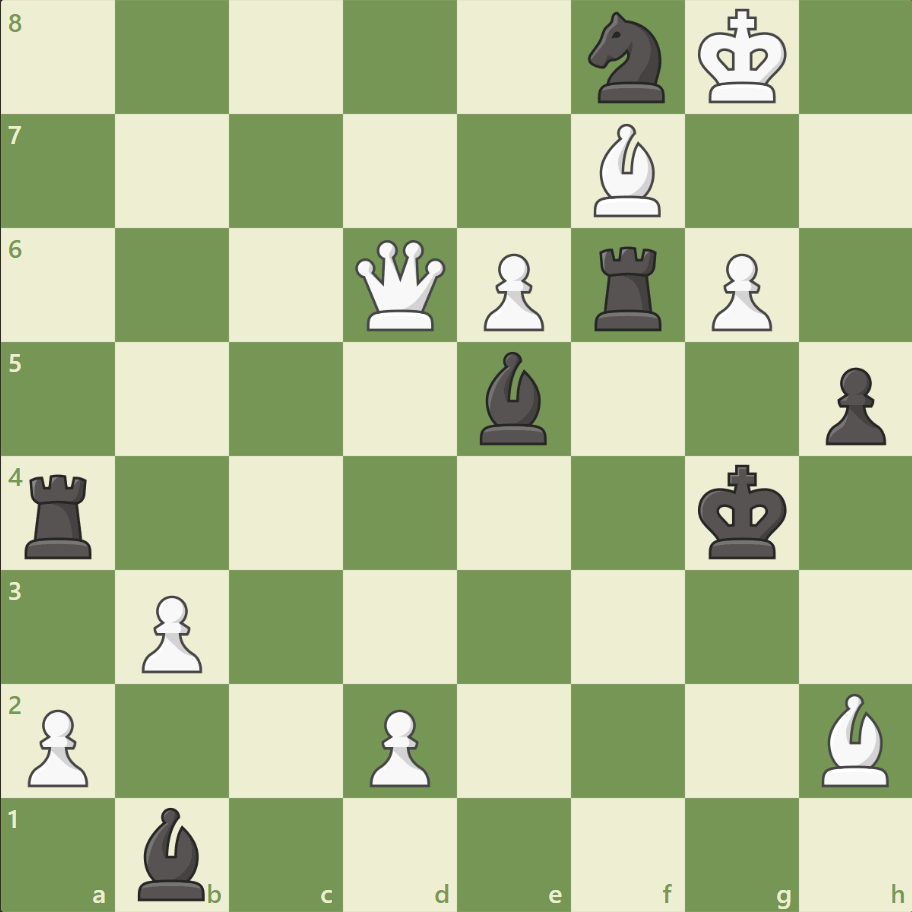B: (812, 687, 896, 790), (585, 120, 669, 222)
K: (692, 4, 792, 112)
P: (474, 246, 549, 337), (701, 246, 776, 337), (133, 586, 208, 677), (20, 700, 95, 791), (361, 700, 435, 791)
Q: (351, 236, 450, 335)
b: (131, 801, 215, 904), (471, 347, 555, 449)
k: (692, 458, 792, 566)
n: (579, 7, 676, 110)
p: (815, 359, 889, 450)
r: (587, 239, 670, 336), (19, 466, 102, 563)
